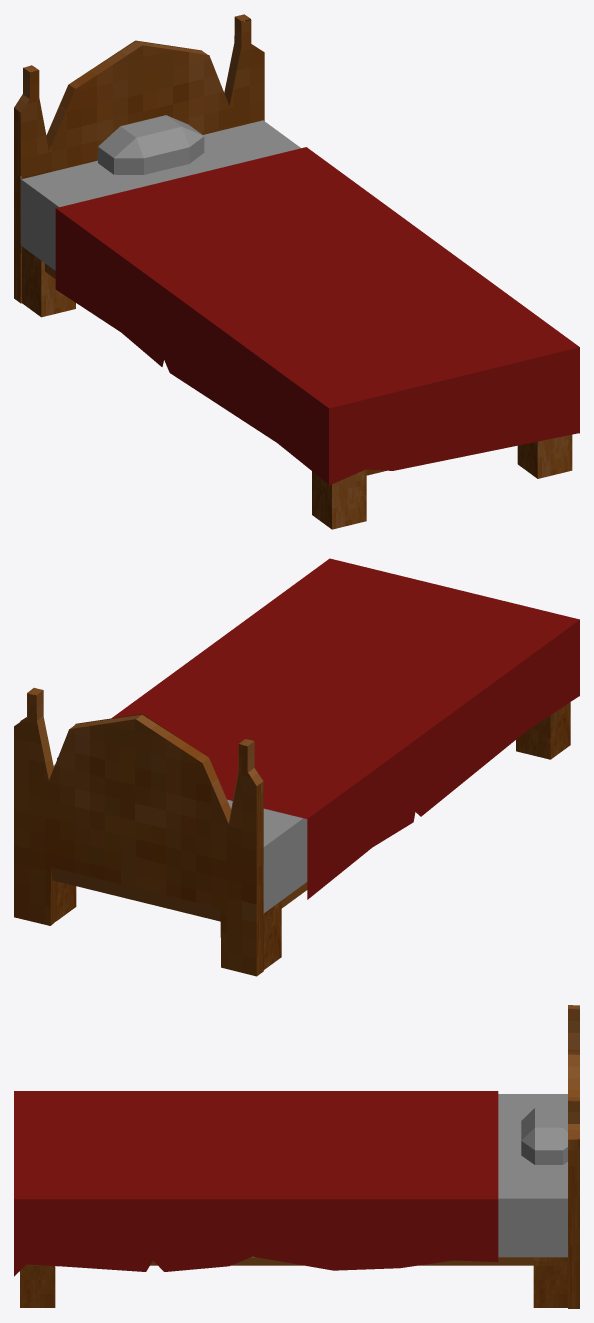
File: OnePersonBed1.glb
The picture shows the model from 3 angles, top to bottom: view 1: azimuth 30°, elevation 25°; view 2: azimuth 150°, elevation 25°; view 3: azimuth 270°, elevation 25°; orthographic projection. The views are drawn at different scales.
Parts seen in each view (by area): view 1: Plane, Cube.005, Cube, Cube.006, Cube.002, Cube.004, Cube.001; view 2: Plane, Cube.005, Cube, Cube.002, Cube.004, Cube.003; view 3: Plane, Cube, Cube.005, Cube.006, Cube.003, Cube.001.
Boxes of the visible parts, box(x1,y1,x2,y2) form: Plane: box(55, 147, 579, 485); Cube.005: box(14, 14, 386, 475); Cube: box(20, 120, 300, 270); Cube.006: box(98, 115, 204, 174); Cube.002: box(312, 469, 366, 529); Cube.004: box(22, 246, 75, 317); Cube.001: box(517, 434, 572, 478); Plane: box(57, 558, 579, 899); Cube.005: box(14, 688, 307, 976); Cube: box(53, 765, 307, 913); Cube.002: box(516, 702, 570, 759); Cube.004: box(263, 901, 281, 969); Cube.003: box(55, 881, 76, 921); Plane: box(14, 1091, 498, 1276); Cube: box(251, 1094, 567, 1257); Cube.005: box(150, 1005, 579, 1308); Cube.006: box(521, 1107, 567, 1164); Cube.003: box(533, 1257, 567, 1307); Cube.001: box(20, 1264, 55, 1307).
Size of the model in its own units: 0.8705 by 0.7599 by 1.92.
Materials: 3 (1 with a texture image).
